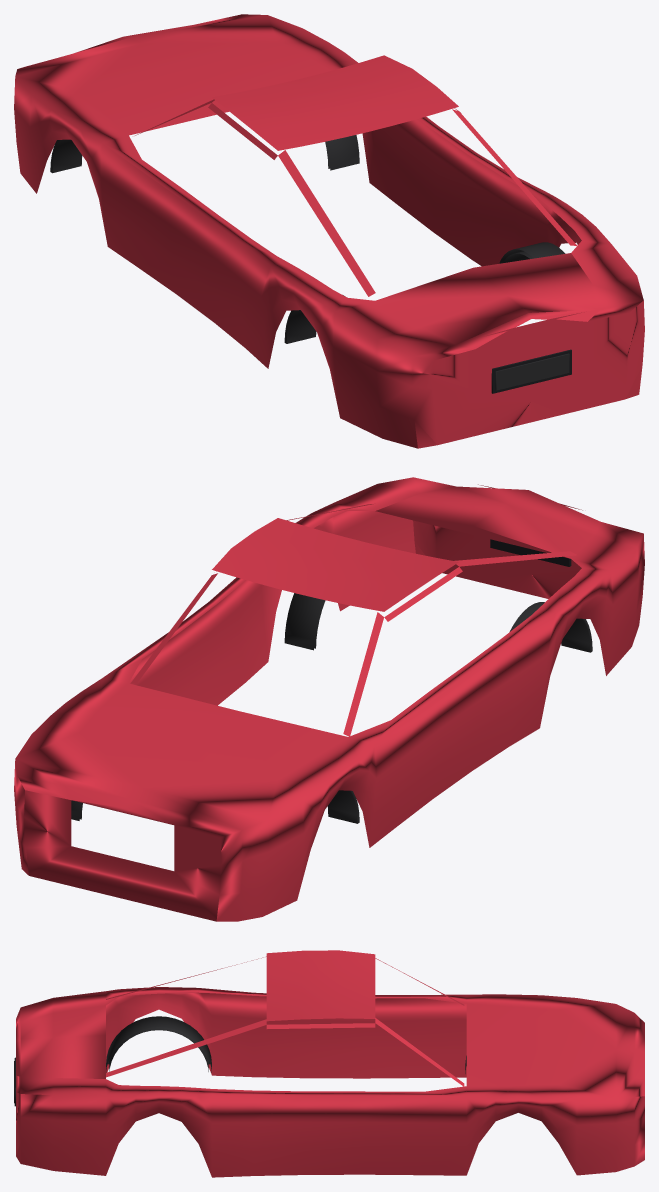
File: body_framework.glb
3 views of the same model, one above another, from view 1: azimuth 30°, elevation 25°; view 2: azimuth 150°, elevation 25°; view 3: azimuth 270°, elevation 25° (orthographic). The views are drawn at different scales.
Visible parts, largest first — view 1: BODY_Hull, BODY_Greenhouse_Canopy, BODY_Rear_License_Plate, BODY_WheelWell_Liner_FL, BODY_WheelWell_Liner_FR, BODY_WheelWell_Liner_RL, BODY_WheelWell_Liner_RR, BODY_Rear_License_Plate_Recess; view 2: BODY_Hull, BODY_Greenhouse_Canopy, BODY_WheelWell_Liner_RL, BODY_WheelWell_Liner_RR, BODY_WheelWell_Liner_FR, BODY_Rear_License_Plate_Recess; view 3: BODY_Hull, BODY_Greenhouse_Canopy, BODY_WheelWell_Liner_RR.
Boxes of the visible parts, x1,y1,x2,y2 form: BODY_Hull: (14,14,644,448); BODY_Greenhouse_Canopy: (135,55,577,296); BODY_Rear_License_Plate: (495,353,569,390); BODY_WheelWell_Liner_FL: (325,135,359,170); BODY_WheelWell_Liner_FR: (50,139,82,173); BODY_WheelWell_Liner_RL: (499,242,565,263); BODY_WheelWell_Liner_RR: (284,295,343,343); BODY_Rear_License_Plate_Recess: (491,349,571,393); BODY_Hull: (14,477,644,921); BODY_Greenhouse_Canopy: (130,504,576,736); BODY_WheelWell_Liner_RL: (284,593,325,650); BODY_WheelWell_Liner_RR: (509,602,592,652); BODY_WheelWell_Liner_FR: (327,790,359,823); BODY_Rear_License_Plate_Recess: (490,539,571,566); BODY_Hull: (16,987,644,1177); BODY_Greenhouse_Canopy: (106,950,464,1086); BODY_WheelWell_Liner_RR: (106,1016,211,1072).
Bounding box in the file's own units: 1.97 × 1.2 × 4.82.
